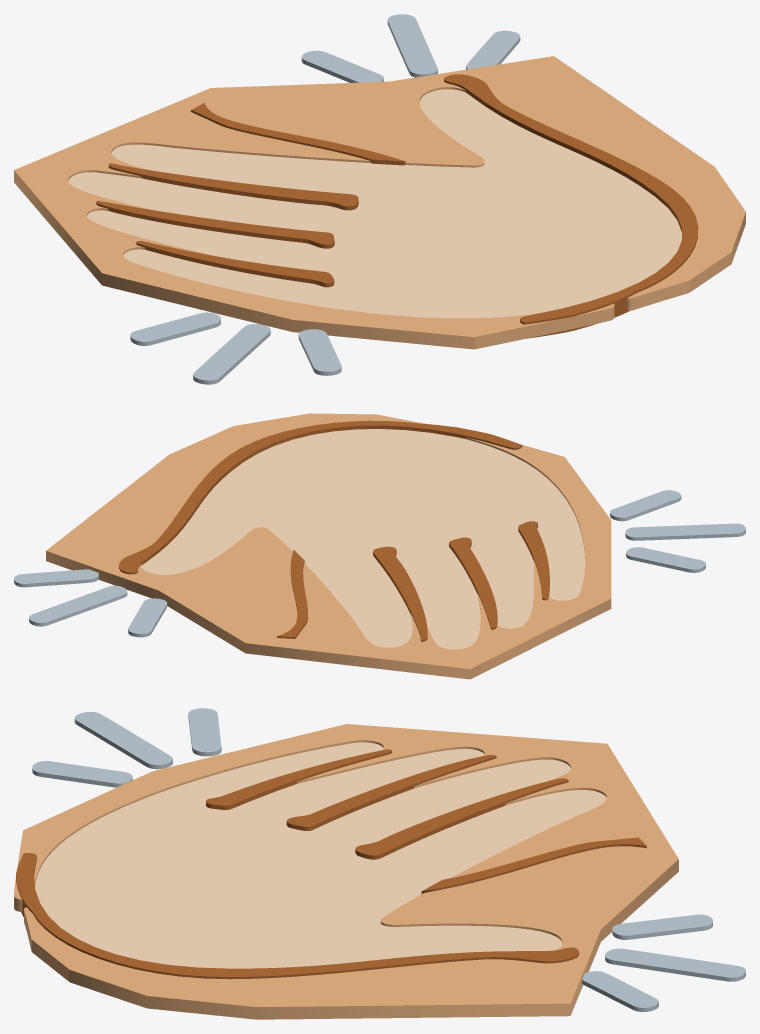
Rendered from emoji_u1f44f_1f3fb.glb.
3 views of the same model, one above another, from view 1: azimuth 30°, elevation 25°; view 2: azimuth 150°, elevation 25°; view 3: azimuth 270°, elevation 25° (orthographic). The views are drawn at different scales.
Visible parts, largest first — view 1: emoji_u1f44f_1f3fb; view 2: emoji_u1f44f_1f3fb; view 3: emoji_u1f44f_1f3fb.
Boxes of the visible parts, x1,y1,x2,y2 form: emoji_u1f44f_1f3fb: (14,14,745,384); emoji_u1f44f_1f3fb: (14,413,745,679); emoji_u1f44f_1f3fb: (14,708,745,1019).
Bounding box in the file's own units: 0.0311 × 0.0008 × 0.0318.
